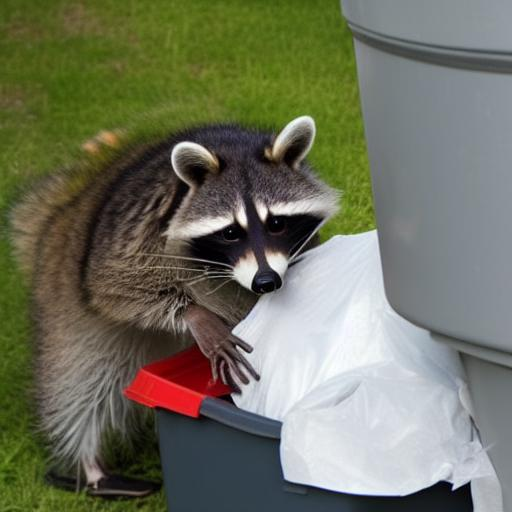raccoon: (14, 109, 352, 474)
